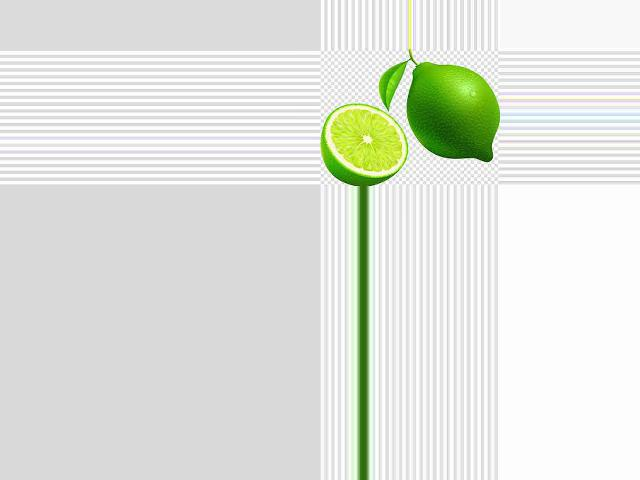lemon: (405, 60, 500, 170)
